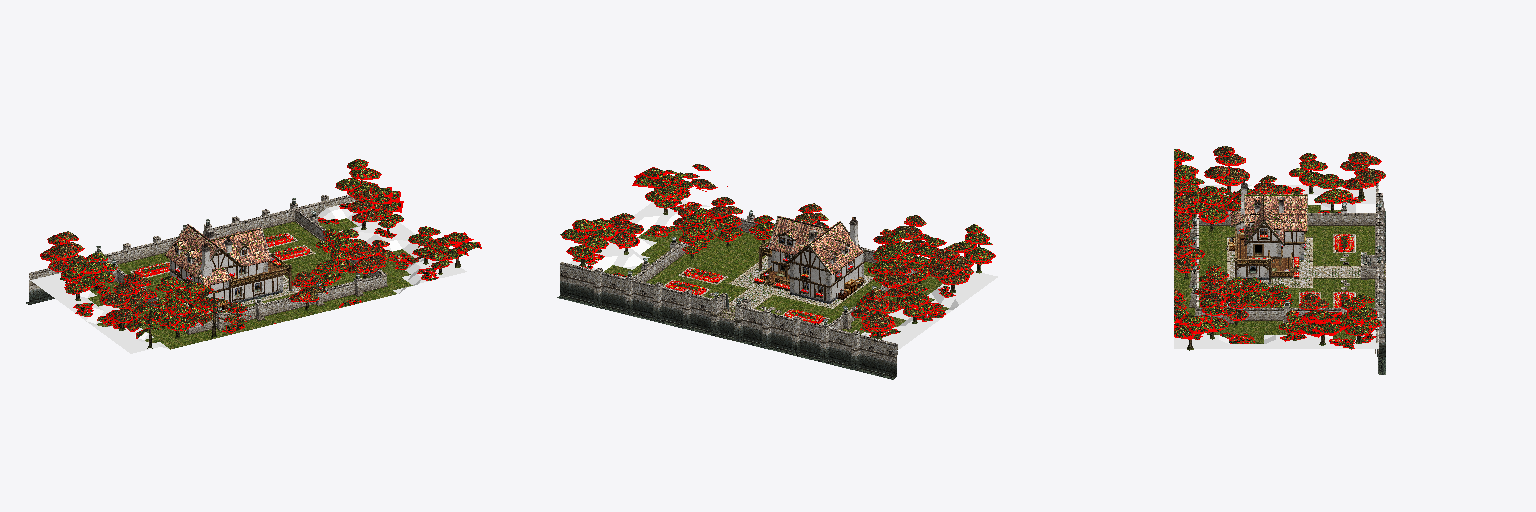
The picture shows the model from 3 angles: view 1: azimuth 30°, elevation 25°; view 2: azimuth 150°, elevation 25°; view 3: azimuth 270°, elevation 25°; orthographic projection.
Parts seen in each view (by area): view 1: Object.1; view 2: Object.1; view 3: Object.1.
Boxes of the visible parts, x1,y1,x2,y2 form: Object.1: [26, 159, 481, 353]; Object.1: [557, 164, 997, 379]; Object.1: [1174, 146, 1385, 374].
Bounding box in the file's own units: 72.34 × 16.28 × 36.96.
Materials: 22 (21 with a texture image).